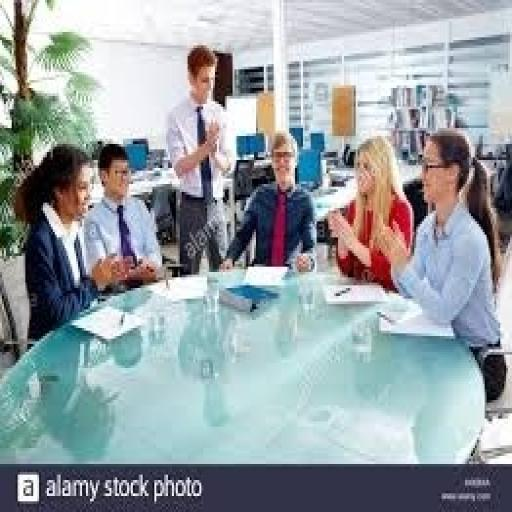clapping: (376, 147, 475, 293), (326, 133, 414, 291), (42, 145, 128, 294)
